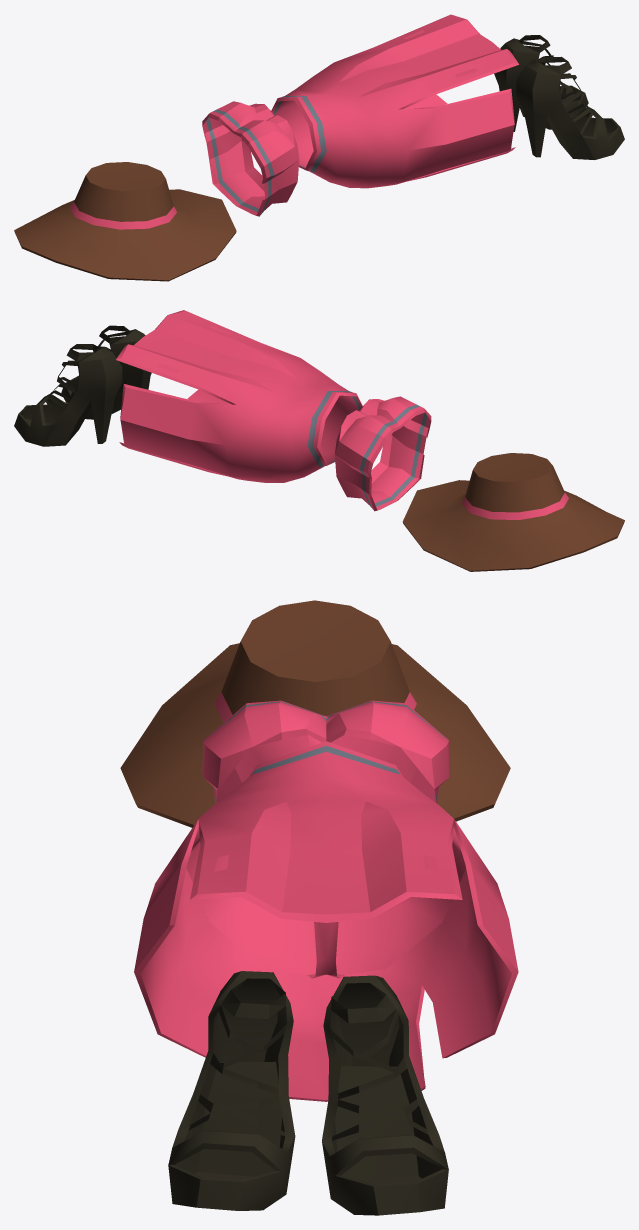
File: NaturalCloth.fbx
3 views of the same model, one above another, from view 1: azimuth 30°, elevation 25°; view 2: azimuth 150°, elevation 25°; view 3: azimuth 270°, elevation 25° (orthographic). The views are drawn at different scales.
Visible parts, largest first — view 1: Lu_TBlouse_003.003, Lu_TBlouse_003.001, Lu_TBlouse_003.002, Lu_TBlouse_003.004, Lu_TBlouse_003; view 2: Lu_TBlouse_003.003, Lu_TBlouse_003.001, Lu_TBlouse_003.002, Lu_TBlouse_003, Lu_TBlouse_003.004; view 3: Lu_TBlouse_003.003, Lu_TBlouse_003.001, Lu_TBlouse_003.004, Lu_TBlouse_003, Lu_TBlouse_003.002.
Boxes of the visible parts, bbox=[...] form: Lu_TBlouse_003.003: bbox=[271, 14, 518, 188]; Lu_TBlouse_003.001: bbox=[14, 162, 236, 281]; Lu_TBlouse_003.002: bbox=[202, 101, 299, 216]; Lu_TBlouse_003.004: bbox=[516, 56, 624, 159]; Lu_TBlouse_003: bbox=[494, 35, 588, 131]; Lu_TBlouse_003.003: bbox=[116, 310, 362, 482]; Lu_TBlouse_003.001: bbox=[402, 453, 624, 571]; Lu_TBlouse_003.002: bbox=[334, 396, 431, 511]; Lu_TBlouse_003: bbox=[14, 344, 122, 446]; Lu_TBlouse_003.004: bbox=[61, 325, 151, 419]; Lu_TBlouse_003.003: bbox=[134, 741, 518, 1101]; Lu_TBlouse_003.001: bbox=[120, 600, 510, 827]; Lu_TBlouse_003.004: bbox=[168, 971, 295, 1210]; Lu_TBlouse_003: bbox=[322, 975, 448, 1215]; Lu_TBlouse_003.002: bbox=[202, 700, 449, 803].
Bounding box in the file's own units: 13349 × 2624 × 3964.
